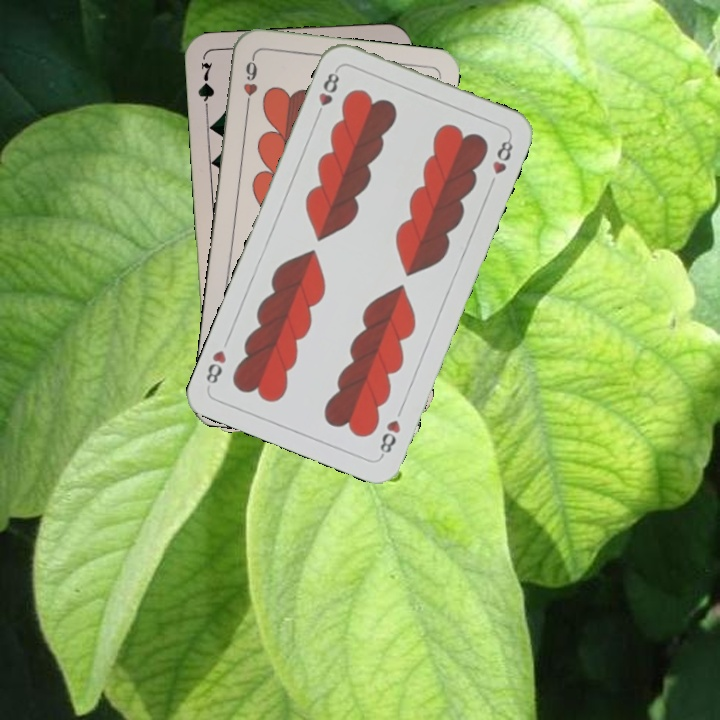G7: (194, 58, 217, 117)
H8: (312, 65, 342, 121), (375, 415, 404, 460)
H9: (239, 52, 260, 111)
